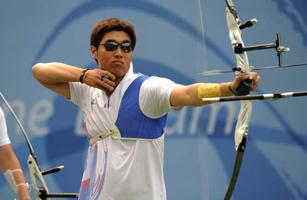person: (27, 14, 263, 199)
